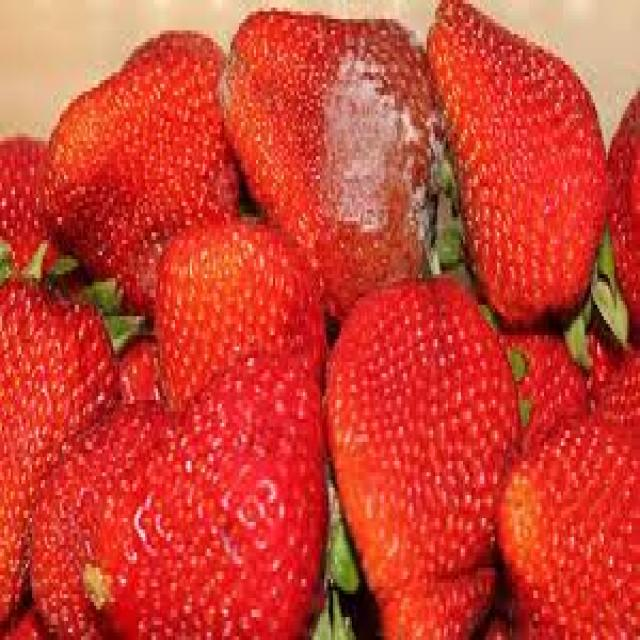food_waste: (0, 0, 638, 636)
